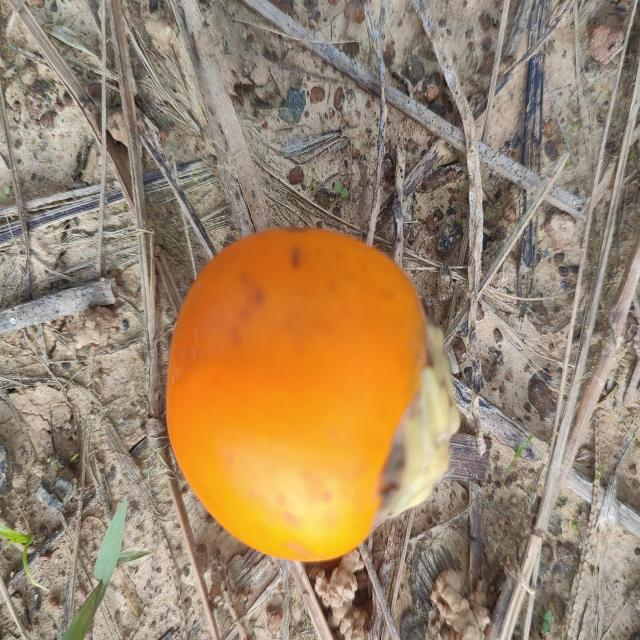good: (164, 228, 463, 565)
